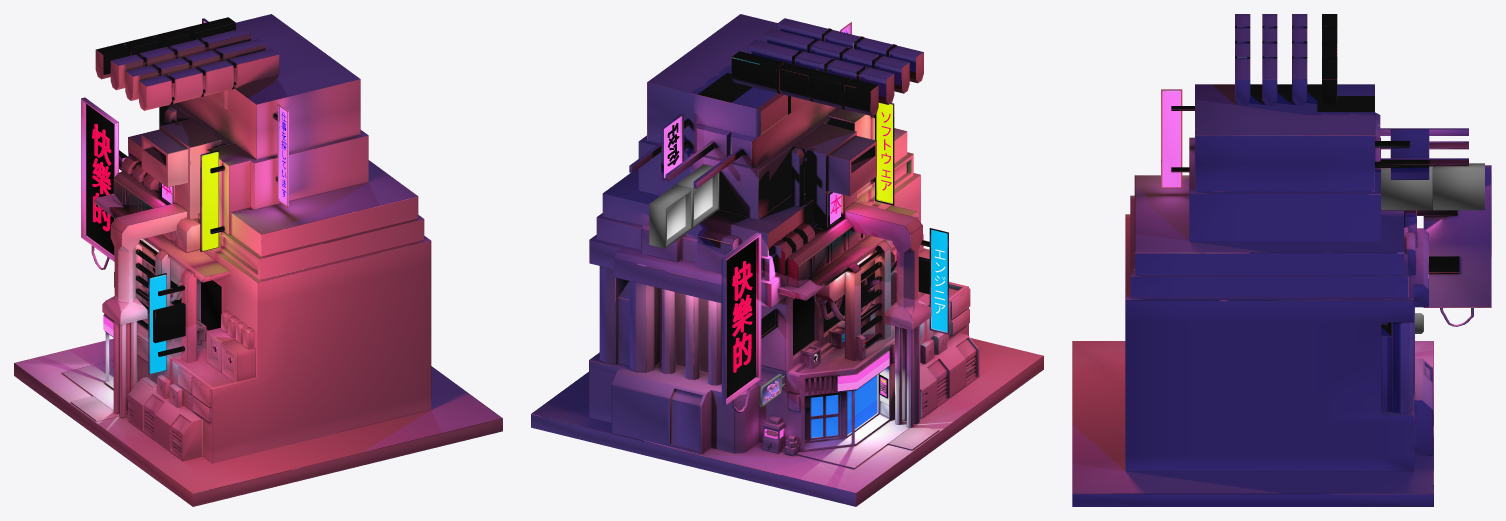
The model's file is cyberpunkbuild6.glb.
3 views of the same model, side by side, from view 1: azimuth 30°, elevation 25°; view 2: azimuth 150°, elevation 25°; view 3: azimuth 270°, elevation 25° (orthographic). The views are drawn at different scales.
Parts seen in each view (by area): view 1: Cube.001, text.005; view 2: Cube.001, text.005; view 3: Cube.001.
Part boxes in pixels (<box>): Cube.001: <box>14,14,502,506</box>; text.005: <box>92,123,111,231</box>; Cube.001: <box>531,14,1043,506</box>; text.005: <box>732,261,752,372</box>; Cube.001: <box>1072,14,1491,506</box>.
Bounding box in the file's own units: 4.18 × 4.57 × 4.84.
40 materials, 1 textured.
